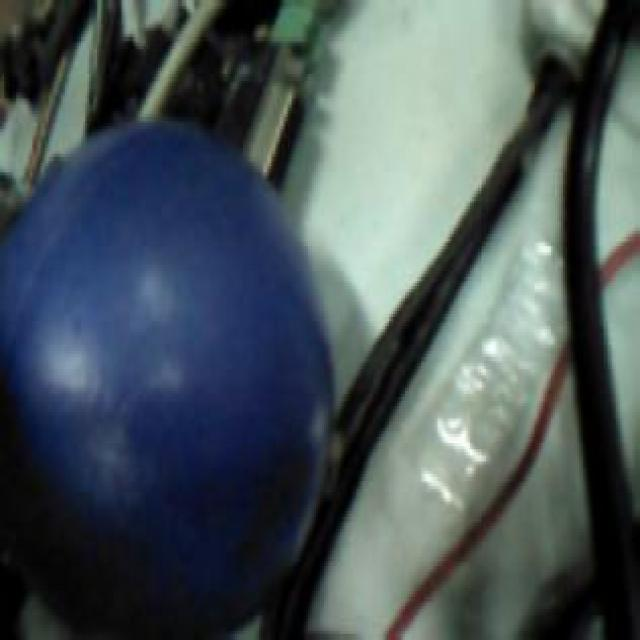BallPurple: (0, 116, 334, 640)
